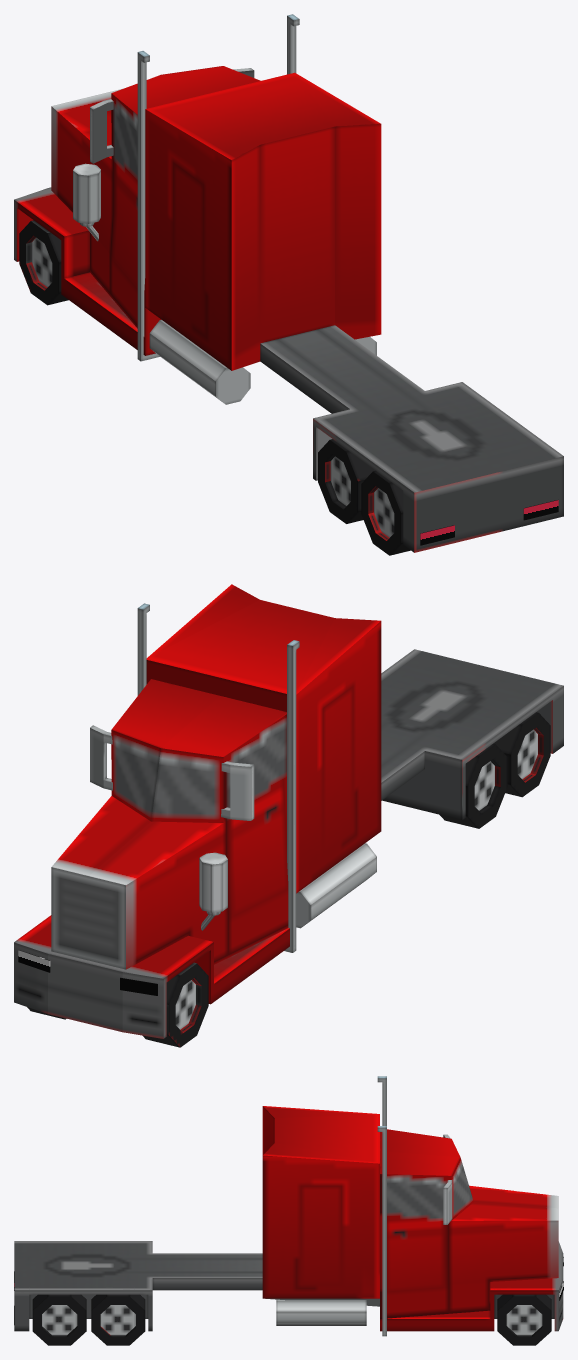
The model's file is Low-Poly_Red_American_Tractor-Trailer.glb.
3 views of the same model, one above another, from view 1: azimuth 30°, elevation 25°; view 2: azimuth 150°, elevation 25°; view 3: azimuth 270°, elevation 25° (orthographic). The views are drawn at different scales.
Parts seen in each view (by area): view 1: truck_base_truck_texture.png_0, right_tank_exterior_texture_0, wheel_4_truck_texture.png_0, wheel_truck_texture.png_0, wheel_2_truck_texture.png_0, left_exhaust_exterior_texture_0, air_filter_exterior_texture_0, left_mirror_exterior_texture_0; view 2: truck_base_truck_texture.png_0, wheel_2_truck_texture.png_0, left_exhaust_exterior_texture_0, right_tank_exterior_texture_0, wheel_4_truck_texture.png_0, wheel_truck_texture.png_0, air_filter_exterior_texture_0, left_mirror_exterior_texture_0, right_mirror_exterior_texture_0, right_exhaust_exterior_texture_0; view 3: truck_base_truck_texture.png_0, wheel_1_truck_texture.png_0, wheel_3_truck_texture.png_0, wheel_5_truck_texture.png_0, left_tank_exterior_texture_0, right_exhaust_exterior_texture_0, right_mirror_exterior_texture_0.
Boxes of the visible parts, x1,y1,x2,y2 form: truck_base_truck_texture.png_0: (14, 66, 563, 552); right_tank_exterior_texture_0: (149, 319, 250, 404); wheel_4_truck_texture.png_0: (318, 439, 375, 523); wheel_truck_texture.png_0: (19, 220, 68, 305); wheel_2_truck_texture.png_0: (361, 470, 410, 555); left_exhaust_exterior_texture_0: (137, 51, 159, 361); air_filter_exterior_texture_0: (73, 163, 100, 241); left_mirror_exterior_texture_0: (90, 99, 113, 163); truck_base_truck_texture.png_0: (14, 584, 563, 1038); wheel_2_truck_texture.png_0: (493, 712, 550, 797); left_exhaust_exterior_texture_0: (284, 640, 299, 952); right_tank_exterior_texture_0: (296, 843, 376, 928); wheel_4_truck_texture.png_0: (439, 744, 507, 828); wheel_truck_texture.png_0: (143, 962, 208, 1047); air_filter_exterior_texture_0: (199, 852, 227, 930); left_mirror_exterior_texture_0: (221, 761, 254, 820); right_mirror_exterior_texture_0: (90, 725, 112, 790); right_exhaust_exterior_texture_0: (137, 603, 149, 695); truck_base_truck_texture.png_0: (14, 1106, 563, 1331); wheel_1_truck_texture.png_0: (497, 1294, 551, 1345); wheel_3_truck_texture.png_0: (32, 1294, 86, 1345); wheel_5_truck_texture.png_0: (91, 1294, 145, 1345); left_tank_exterior_texture_0: (276, 1299, 366, 1325); right_exhaust_exterior_texture_0: (377, 1126, 386, 1336); right_mirror_exterior_texture_0: (443, 1180, 452, 1224).
Bounding box in the file's own units: 1.75 × 3.34 × 7.62.
Materials: 4 (4 with a texture image).
